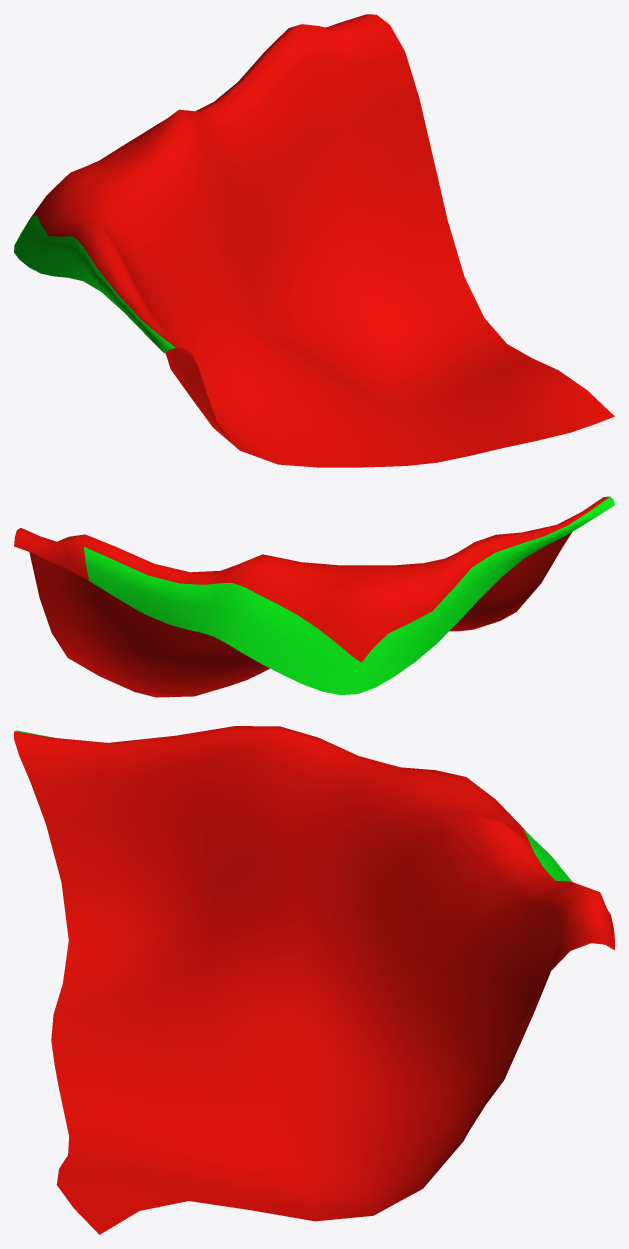
The picture shows the model from 3 angles, top to bottom: view 1: azimuth 30°, elevation 25°; view 2: azimuth 150°, elevation 25°; view 3: azimuth 270°, elevation 25°; orthographic projection. The views are drawn at different scales.
Parts seen in each view (by area): view 1: T7; view 2: T7; view 3: T7.
Part boxes in pixels (x1=…): T7: x1=14, y1=14, x2=614, y2=467; T7: x1=14, y1=496, x2=614, y2=697; T7: x1=14, y1=726, x2=614, y2=1234.
Bounding box in the file's own units: 5214 × 2789 × 4943.
